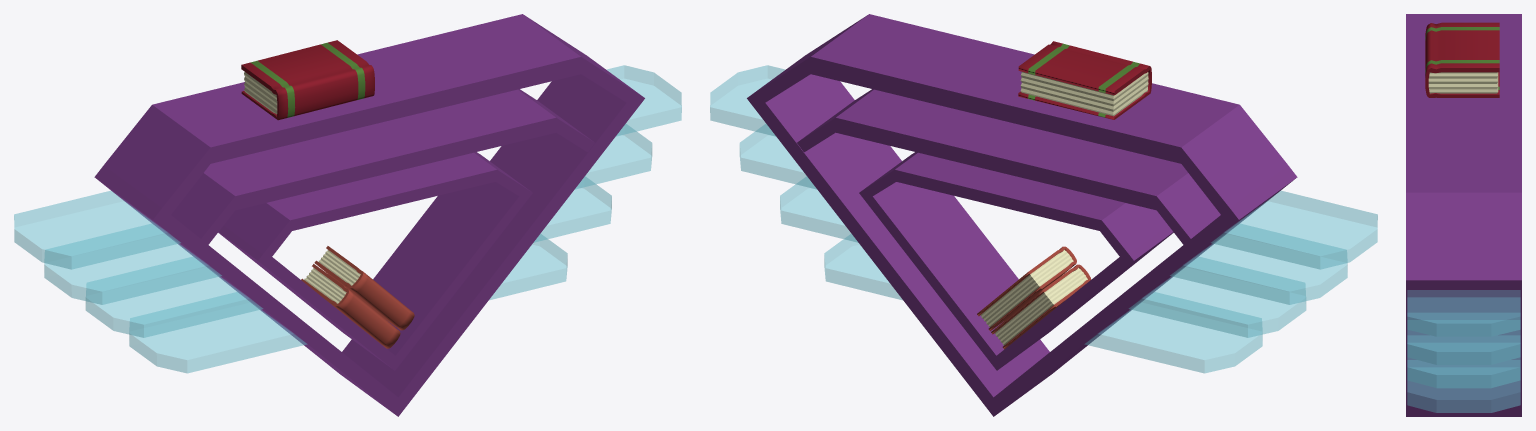
The model's file is shelves_tier20.fbx.
3 renders of one model, left to right at view 1: azimuth 30°, elevation 25°; view 2: azimuth 150°, elevation 25°; view 3: azimuth 270°, elevation 25°, orthographic.
Visible parts, largest first — view 1: Cube, Cube.009, Cube.005, Cube.007, Cube.002, Cube.003, Cube.001, Cube.011, Cube.008, Cube.006, Cube.010, Cube.004; view 2: Cube, Cube.009, Cube.005, Cube.007, Cube.002, Cube.003, Cube.001, Cube.011, Cube.008, Cube.006, Cube.010, Cube.004; view 3: Cube, Cube.003, Cube.001, Cube.006, Cube.008, Cube.004.
Boxes of the visible parts, x1,y1,x2,y2 form: Cube: (94,14,644,416); Cube.009: (129,292,307,373); Cube.005: (44,224,221,304); Cube.007: (85,257,262,337); Cube.002: (14,190,180,269); Cube.003: (241,40,374,120); Cube.001: (606,65,681,136); Cube.011: (314,246,414,330); Cube.008: (489,234,567,300); Cube.006: (534,176,611,242); Cube.010: (301,264,400,348); Cube.004: (575,124,652,189); Cube: (747,14,1297,416); Cube.009: (1084,292,1262,373); Cube.005: (1170,224,1347,304); Cube.007: (1129,257,1306,337); Cube.002: (1211,190,1377,269); Cube.003: (1018,41,1151,119); Cube.001: (710,65,785,136); Cube.011: (977,246,1076,331); Cube.008: (824,234,902,300); Cube.006: (780,176,857,242); Cube.010: (991,264,1091,349); Cube.004: (739,124,816,189); Cube: (1406,14,1521,416); Cube.003: (1425,22,1499,97); Cube.001: (1407,290,1520,336); Cube.006: (1407,342,1520,388); Cube.008: (1407,367,1520,412); Cube.004: (1407,320,1520,364).
Size of the model in its own units: 315 by 163 by 49.9.
